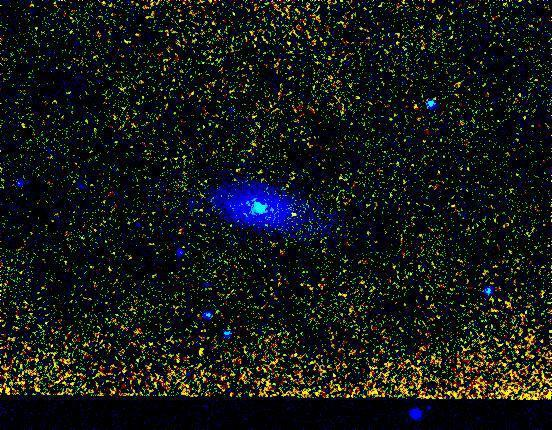star: (278, 201, 308, 231)
